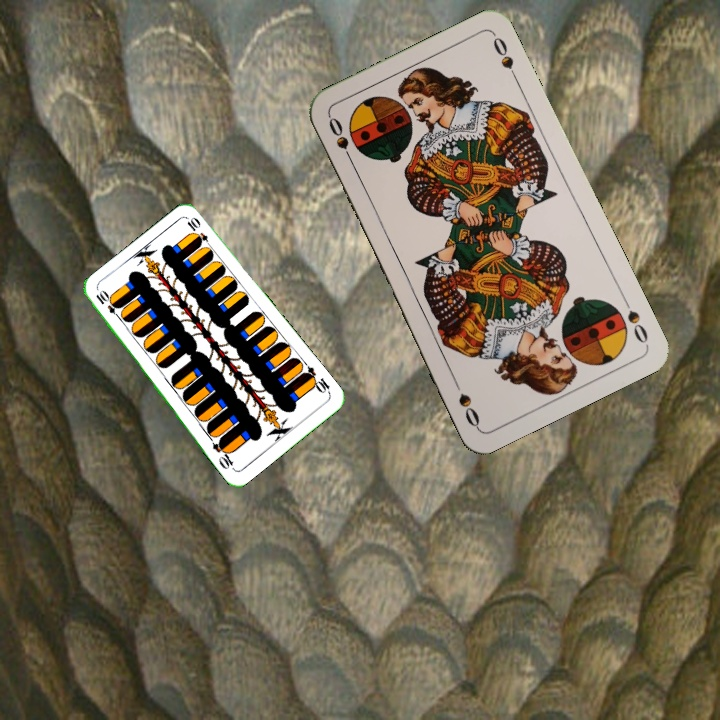E10: (299, 362, 333, 396), (92, 288, 123, 322)
SO: (324, 113, 357, 168), (618, 292, 651, 346)
